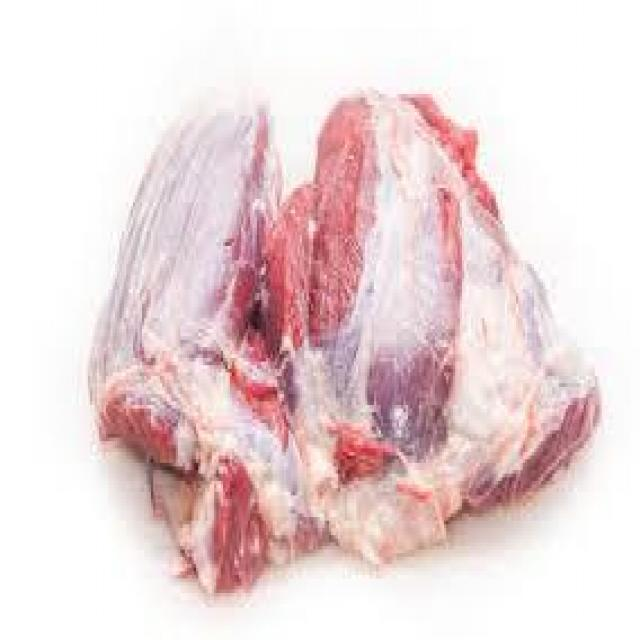beef: (108, 109, 586, 599)
